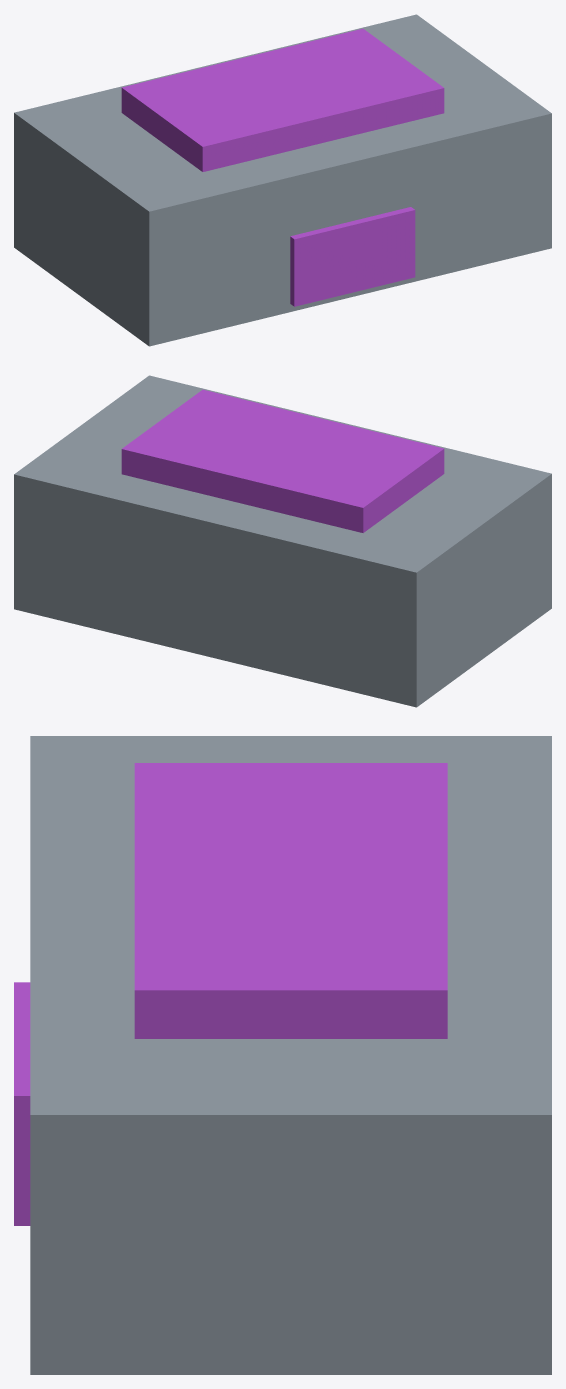
File: CH_PauseProjector_LOD0.glb
3 views of the same model, one above another, from view 1: azimuth 30°, elevation 25°; view 2: azimuth 150°, elevation 25°; view 3: azimuth 270°, elevation 25° (orthographic). The views are drawn at different scales.
Parts seen in each view (by area): view 1: EntranceGate; view 2: EntranceGate; view 3: EntranceGate.
Boxes of the visible parts, x1=… form: EntranceGate: x1=14, y1=14, x2=551, y2=346; EntranceGate: x1=14, y1=375, x2=551, y2=707; EntranceGate: x1=14, y1=736, x2=551, y2=1374.
Bounding box in the file's own units: 550 × 209 × 330.
